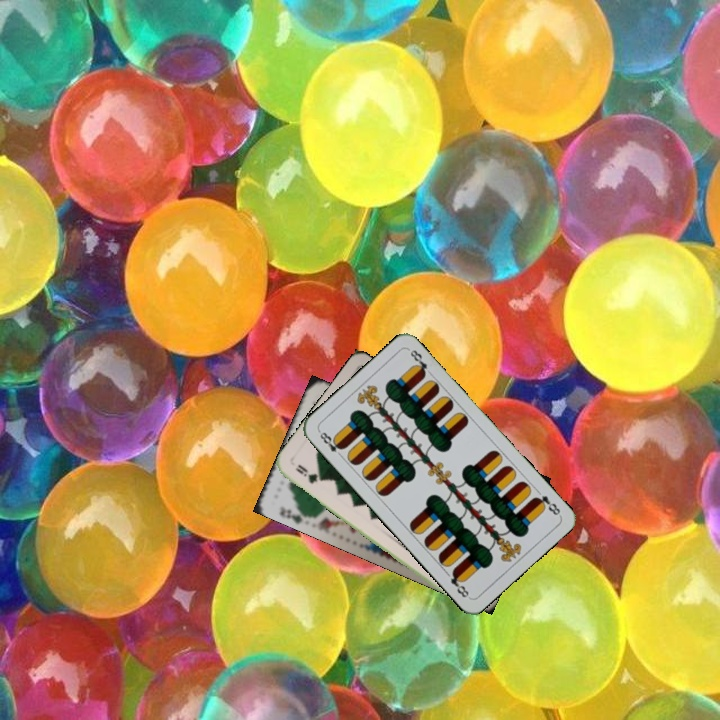E8: (315, 427, 346, 461), (529, 491, 564, 518)
G9: (291, 460, 325, 486)
GK: (275, 502, 311, 526)
